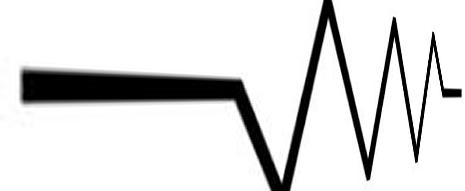resistor: (247, 2, 460, 188)
